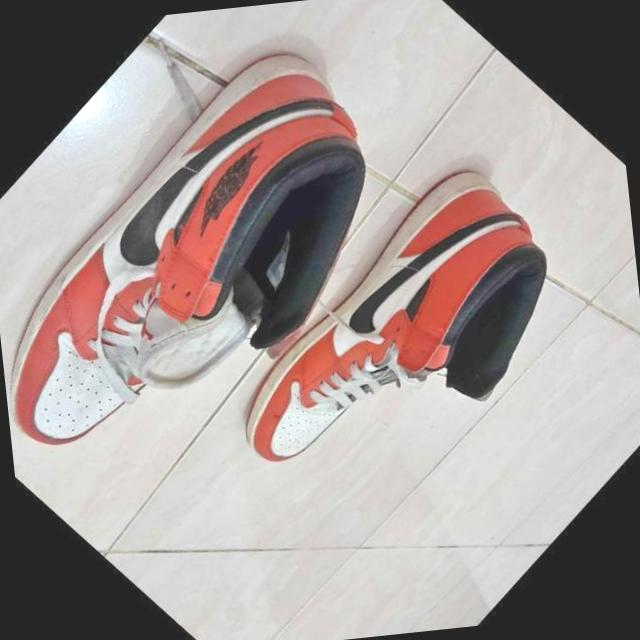nike_fake_jordan: (0, 3, 477, 540), (189, 134, 623, 556)
